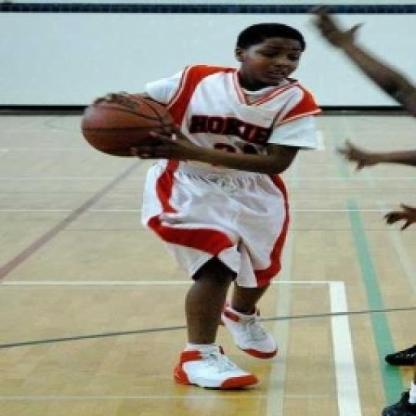basketball: (77, 86, 180, 164)
